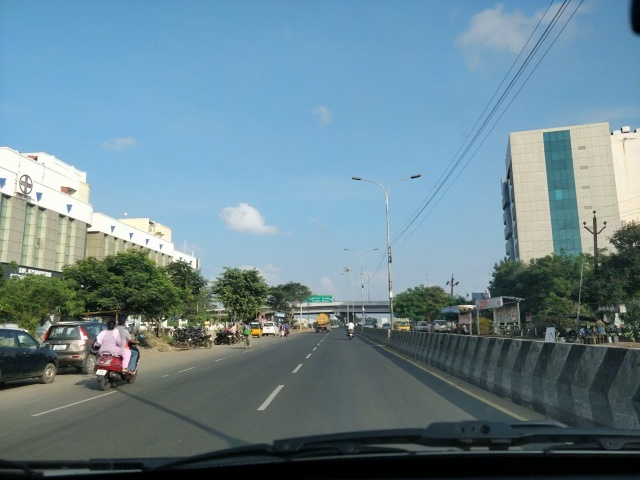auto: (249, 321, 261, 336)
car: (53, 319, 130, 369), (2, 321, 58, 383), (432, 318, 452, 345), (264, 321, 277, 336)
motorbike: (92, 317, 144, 389), (180, 333, 217, 354), (214, 327, 241, 346), (346, 320, 355, 340)
truck: (394, 315, 414, 341), (313, 310, 334, 332)
